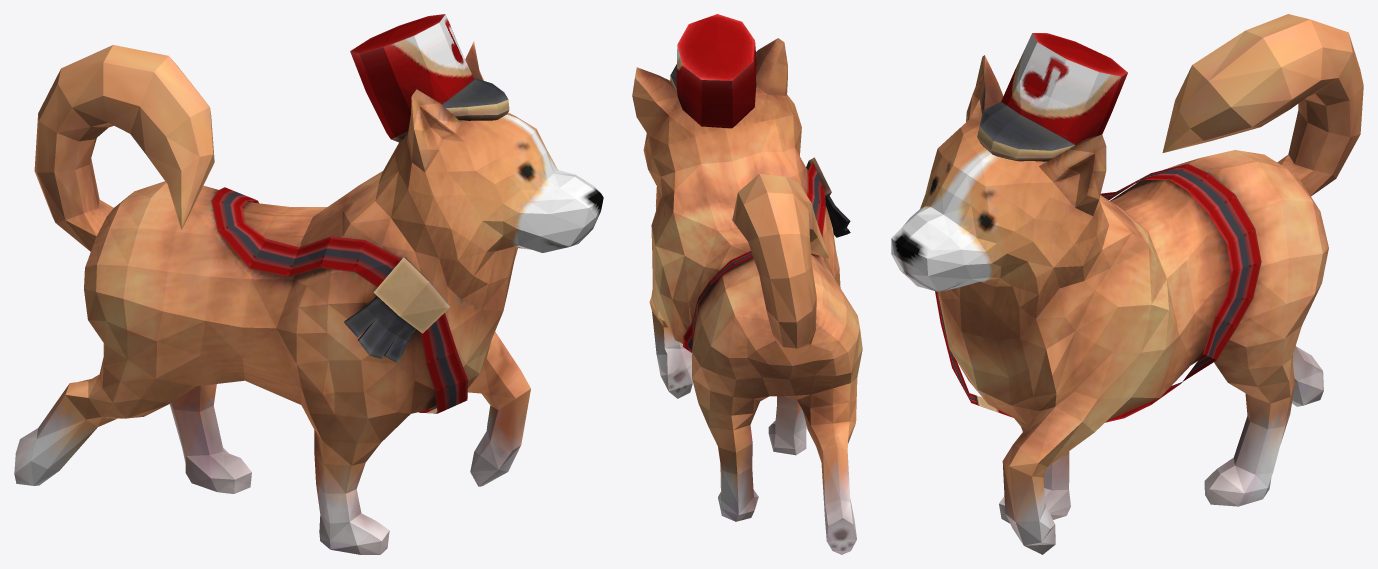
The model's file is marching-dog.fbx.
The picture shows the model from 3 angles, left to right: view 1: azimuth 30°, elevation 25°; view 2: azimuth 150°, elevation 25°; view 3: azimuth 270°, elevation 25°; orthographic projection. The views are drawn at different scales.
Visible parts, largest first — view 1: default; view 2: default; view 3: default.
Boxes of the visible parts, x1,y1,x2,y2 form: default: (14, 14, 603, 554); default: (632, 14, 862, 554); default: (891, 14, 1363, 554).
Bounding box in the file's own units: 0.0263 × 0.031 × 0.0258.
Materials: 1 (1 with a texture image).
